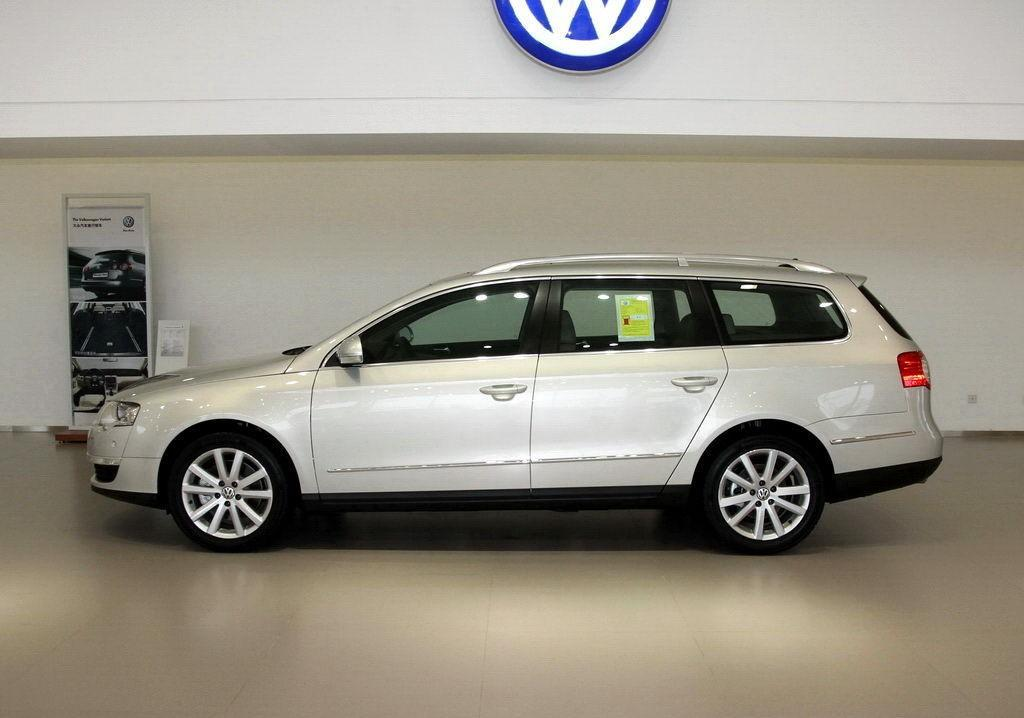Wagon: (85, 253, 946, 554)
